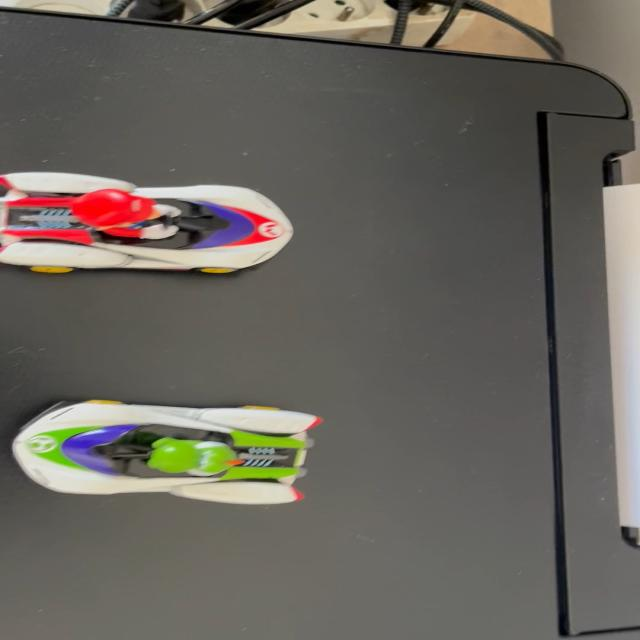mario: (2, 162, 316, 282)
yoshi: (0, 388, 345, 521)
